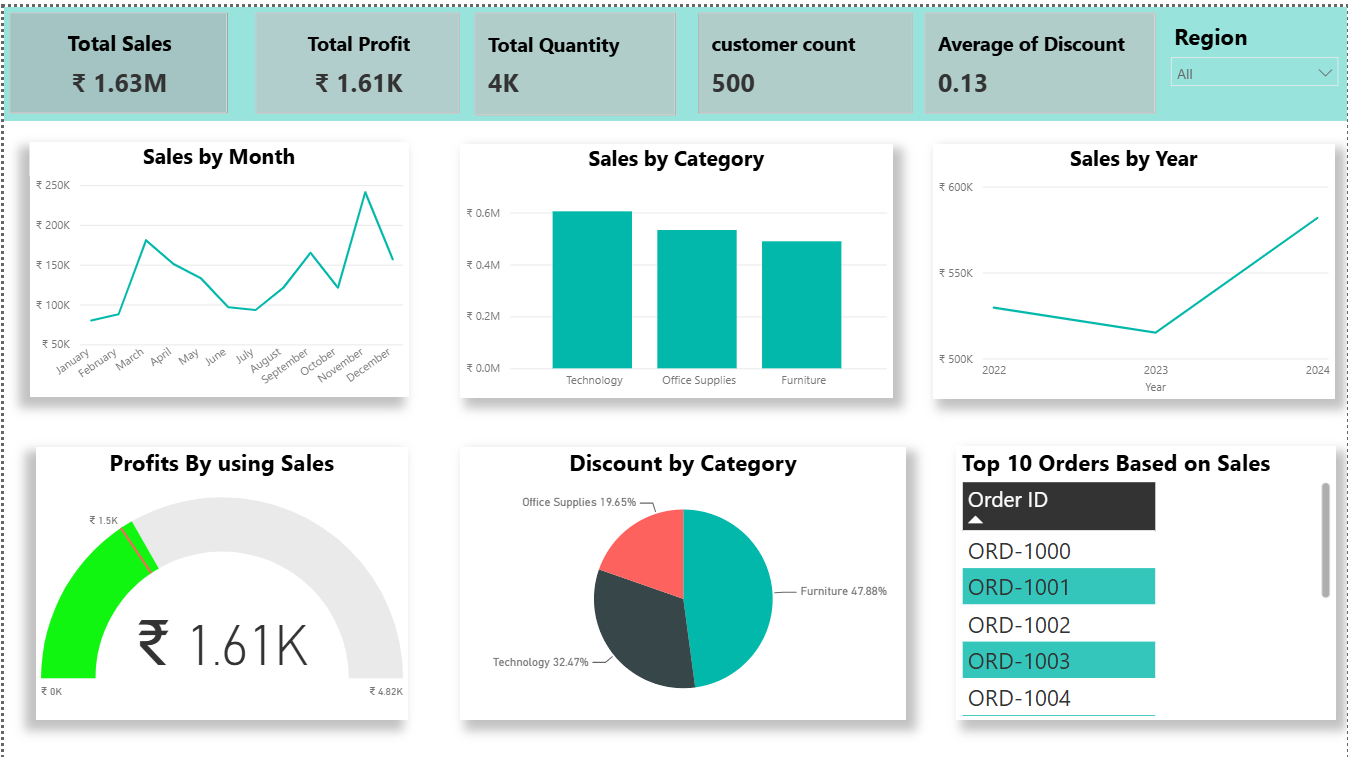

The dashboard page shown, as its layout file describes it:
{"tool":"powerbi","page":{"name":"Page 1","canvas":[1280,720],"ordinal":0},"visuals":[{"type":"cardVisual","fields":{"Data":["Sum(palmbridge_raw_data.Sales)"]},"box":[0,0,218.5,106.6],"z":0,"group":"g1"},{"type":"cardVisual","fields":{"Data":["Sum(palmbridge_raw_data.Profit)"]},"box":[234.5,0,205.4,106.7],"z":1000,"group":"g1"},{"type":"cardVisual","fields":{"Data":["Sum(palmbridge_raw_data.Quantity)"]},"box":[442.5,0,202.4,108.2],"z":2000,"group":"g1"},{"type":"cardVisual","fields":{"Data":["CountNonNull(palmbridge_raw_data.Sales)"]},"box":[655.3,0,215.5,106.7],"z":3000,"group":"g1"},{"type":"cardVisual","fields":{"Data":["Avg(palmbridge_raw_data.Discount)"]},"box":[870.8,0,230.6,106.7],"z":4000,"group":"g1"},{"type":"lineChart","title":"Sales by Year","fields":{"Category":["palmbridge_raw_data.Order Date.Variation.Date Hierarchy.Year"],"Y":["Sum(palmbridge_raw_data.Sales)"]},"box":[884.4,130.4,383.3,243.4],"z":5000},{"type":"clusteredColumnChart","title":"Sales by Category","fields":{"Category":["palmbridge_raw_data.Category"],"Y":["Sum(palmbridge_raw_data.Sales)"]},"box":[434.2,130.4,412,241.8],"z":6000},{"type":"gauge","title":"Profits By using Sales","fields":{"Y":["Sum(palmbridge_raw_data.Profit)"]},"box":[30.2,418.3,354.7,260.9],"z":7000},{"type":"tableEx","title":"Top 10 Orders Based on Sales","fields":{"Values":["palmbridge_raw_data.Order ID"]},"box":[906.6,418.3,361.1,260.9],"z":8000},{"type":"pieChart","title":"Discount by Category","fields":{"Category":["palmbridge_raw_data.Category"],"Y":["Avg(palmbridge_raw_data.Discount)"]},"box":[434.2,418.3,424.7,260.9],"z":9000},{"type":"lineChart","title":"Sales by Month","fields":{"Category":["palmbridge_raw_data.Order Date.Variation.Date Hierarchy.Month"],"Y":["Sum(palmbridge_raw_data.Sales)"]},"box":[23.9,128.8,361.1,243.4],"z":10000},{"type":"slicer","fields":{"Values":["palmbridge_raw_data.Region"]},"box":[1101.3,7.6,179.4,100.2],"z":11000,"group":"g1"},{"type":"group","id":"g1","title":"Group 1","box":[0,0,1280.4,108.2],"z":11001}]}

Visuals, with their boxes in screenshot pixels (x1, y1, x2, y2), scaled from the page's 1280x720 canvas onto the 1348x757 screenshot:
cardVisual - Sum(palmbridge_raw_data.Sales): Rect(0, 0, 230, 112)
cardVisual - Sum(palmbridge_raw_data.Profit): Rect(247, 0, 463, 112)
cardVisual - Sum(palmbridge_raw_data.Quantity): Rect(466, 0, 679, 114)
cardVisual - CountNonNull(palmbridge_raw_data.Sales): Rect(690, 0, 917, 112)
cardVisual - Avg(palmbridge_raw_data.Discount): Rect(917, 0, 1160, 112)
"Sales by Year" lineChart: Rect(931, 137, 1335, 393)
"Sales by Category" clusteredColumnChart: Rect(457, 137, 891, 391)
"Profits By using Sales" gauge: Rect(32, 440, 405, 714)
"Top 10 Orders Based on Sales" tableEx: Rect(955, 440, 1335, 714)
"Discount by Category" pieChart: Rect(457, 440, 905, 714)
"Sales by Month" lineChart: Rect(25, 135, 405, 391)
slicer - palmbridge_raw_data.Region: Rect(1160, 8, 1347, 113)
"Group 1" group: Rect(0, 0, 1347, 114)
